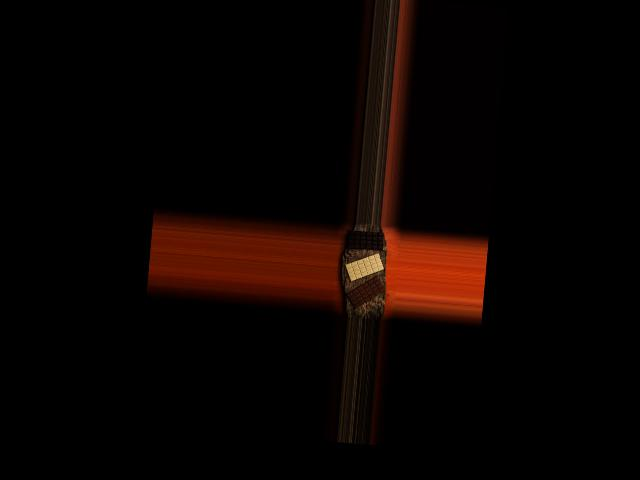chocolate: (346, 229, 384, 250)
